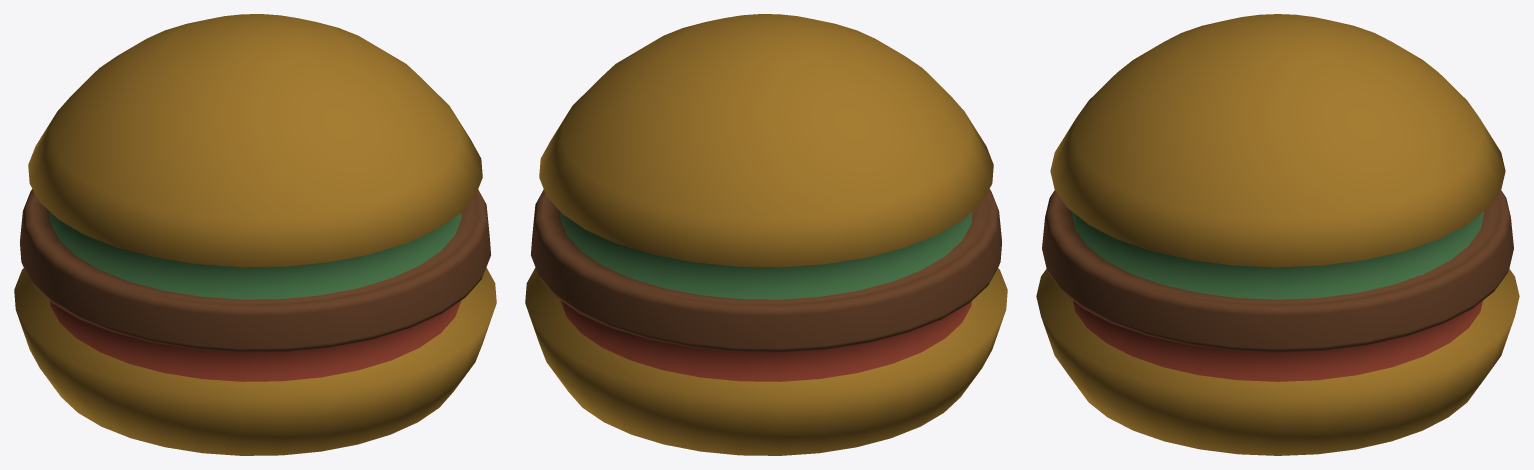
The model's file is hamburguer.fbx.
The picture shows the model from 3 angles, left to right: view 1: azimuth 30°, elevation 25°; view 2: azimuth 150°, elevation 25°; view 3: azimuth 270°, elevation 25°; orthographic projection.
Parts seen in each view (by area): view 1: hambuerguesa; view 2: hambuerguesa; view 3: hambuerguesa.
Boxes of the visible parts, box(x1,y1,x2,y2) form: hambuerguesa: box(14, 14, 496, 455); hambuerguesa: box(525, 14, 1007, 455); hambuerguesa: box(1036, 14, 1519, 455).
Size of the model in its own units: 54.23 by 42.07 by 54.23.
